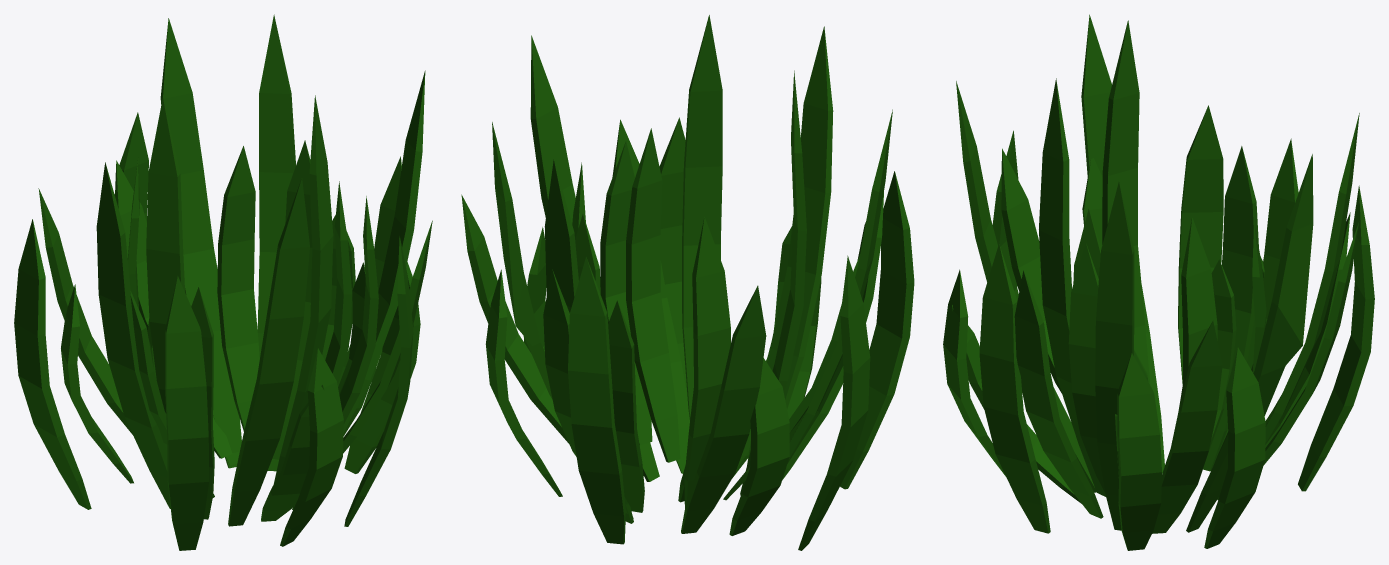
The model's file is petit tas d_herbe .fbx.
The picture shows the model from 3 angles, left to right: view 1: azimuth 30°, elevation 25°; view 2: azimuth 150°, elevation 25°; view 3: azimuth 270°, elevation 25°; orthographic projection. The views are drawn at different scales.
Parts seen in each view (by area): view 1: petit tah d'herbe; view 2: petit tah d'herbe; view 3: petit tah d'herbe.
Boxes of the visible parts, left/top/right/bottom form: petit tah d'herbe: left=14, top=14, right=432, bottom=550; petit tah d'herbe: left=461, top=15, right=914, bottom=550; petit tah d'herbe: left=943, top=14, right=1374, bottom=550.
Bounding box in the file's own units: 78.88 × 85.24 × 75.41.
